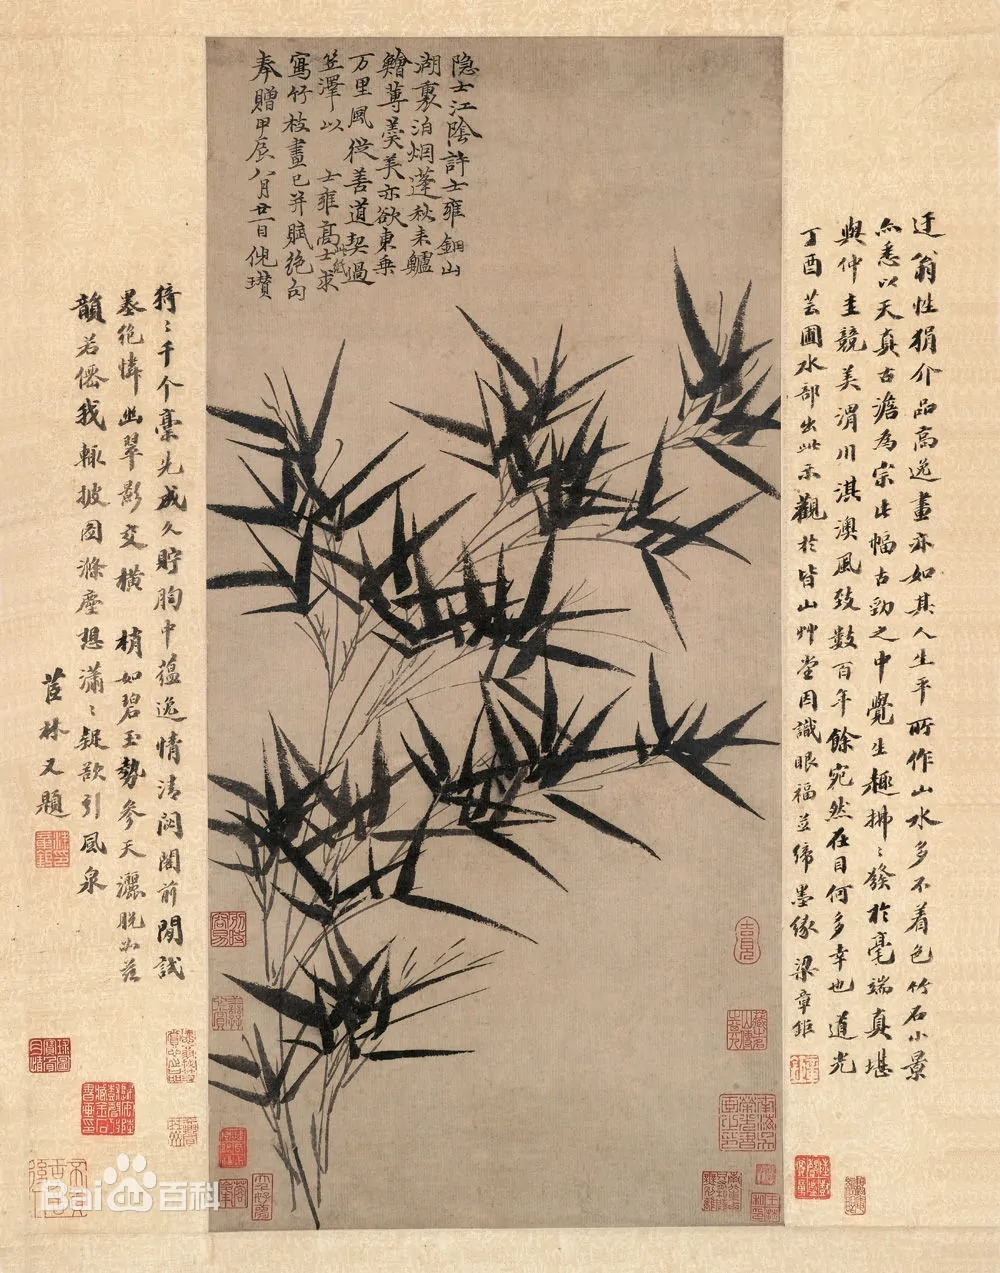bamboo: (201, 310, 790, 1204)
